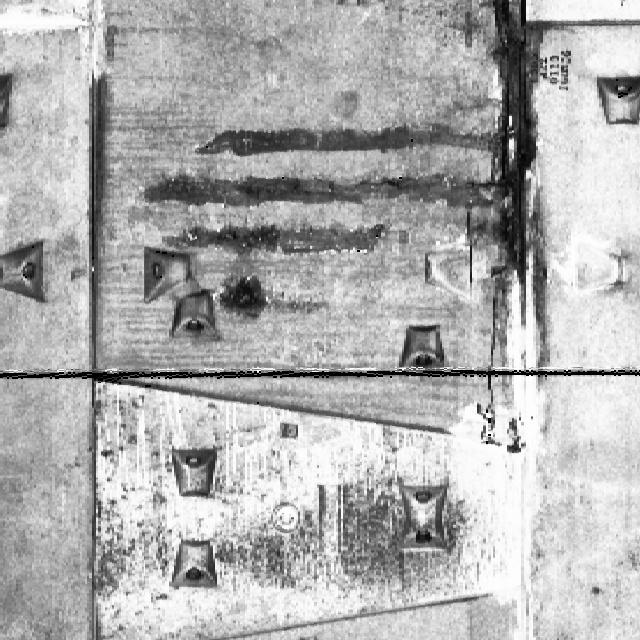leakage: (474, 0, 575, 375), (136, 165, 485, 214), (197, 119, 506, 160), (144, 216, 414, 261)
